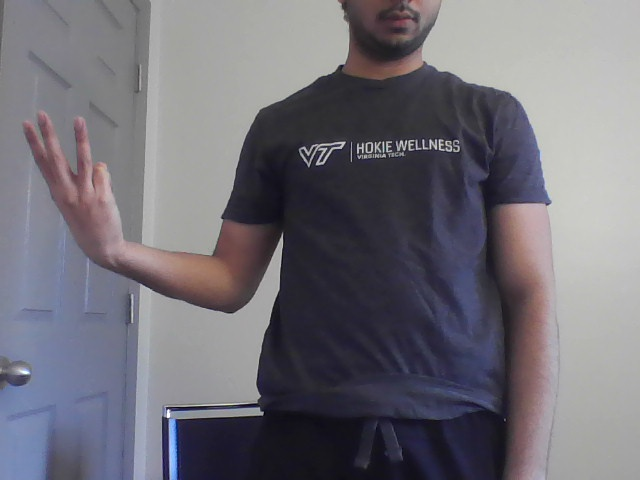three: (16, 108, 143, 242)
